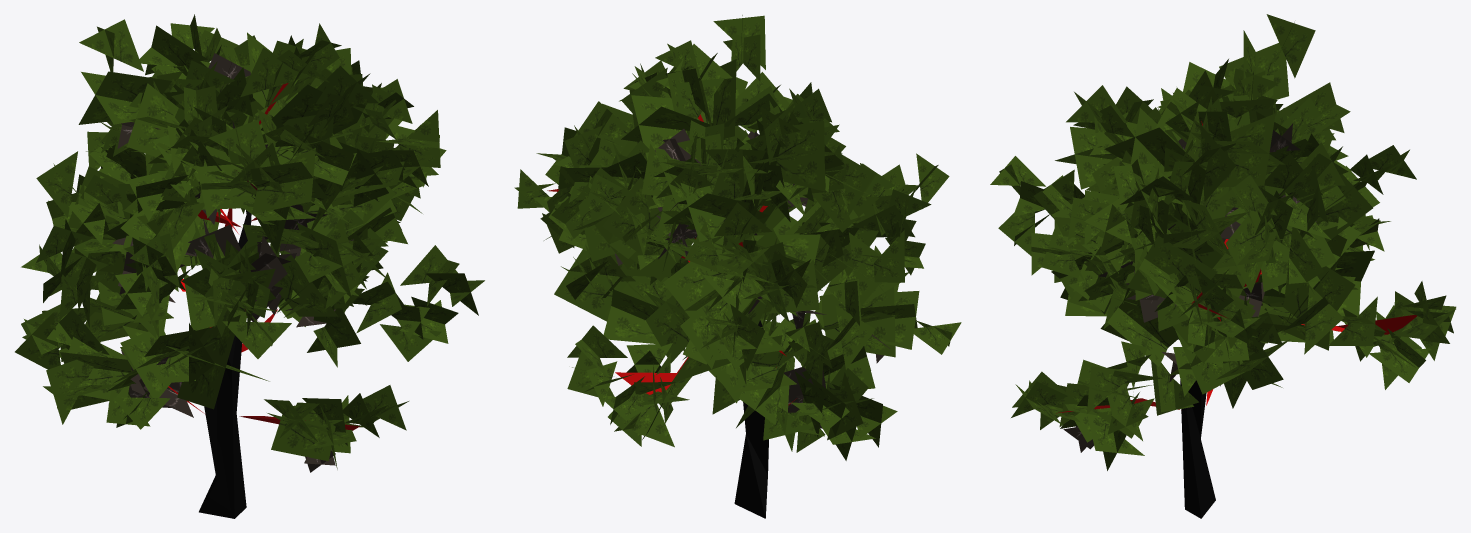
Rendered from oak2 lod3.FBX.
The picture shows the model from 3 angles, left to right: view 1: azimuth 30°, elevation 25°; view 2: azimuth 150°, elevation 25°; view 3: azimuth 270°, elevation 25°; orthographic projection. The views are drawn at different scales.
Visible parts, largest first — view 1: oak2_LOD3; view 2: oak2_LOD3; view 3: oak2_LOD3.
Part boxes in pixels (box(x1,y1,x2,y2)): oak2_LOD3: box(15, 14, 484, 518); oak2_LOD3: box(514, 15, 961, 518); oak2_LOD3: box(990, 14, 1456, 518).
Bounding box in the file's own units: 105000 × 118777 × 109530.
